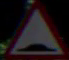Speed Breaker ahead: (14, 10, 55, 54)
